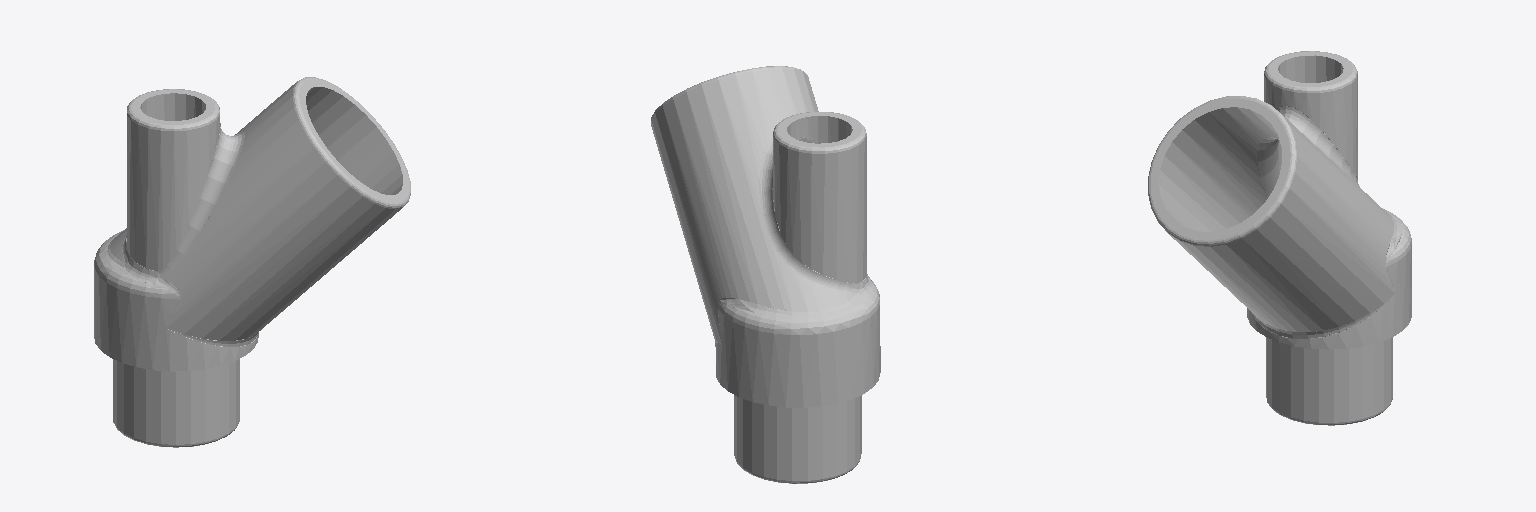
Rendered from Сапун.obj.
3 renders of one model, left to right at view 1: azimuth 30°, elevation 25°; view 2: azimuth 150°, elevation 25°; view 3: azimuth 270°, elevation 25°, orthographic.
Parts seen in each view (by area): view 1: Сапун; view 2: Сапун; view 3: Сапун.
Boxes of the visible parts, box(x1,y1,x2,y2) form: Сапун: box(94, 77, 410, 447); Сапун: box(651, 66, 880, 483); Сапун: box(1148, 51, 1411, 425).
Bounding box in the file's own units: 61.8 × 80.01 × 55.99.